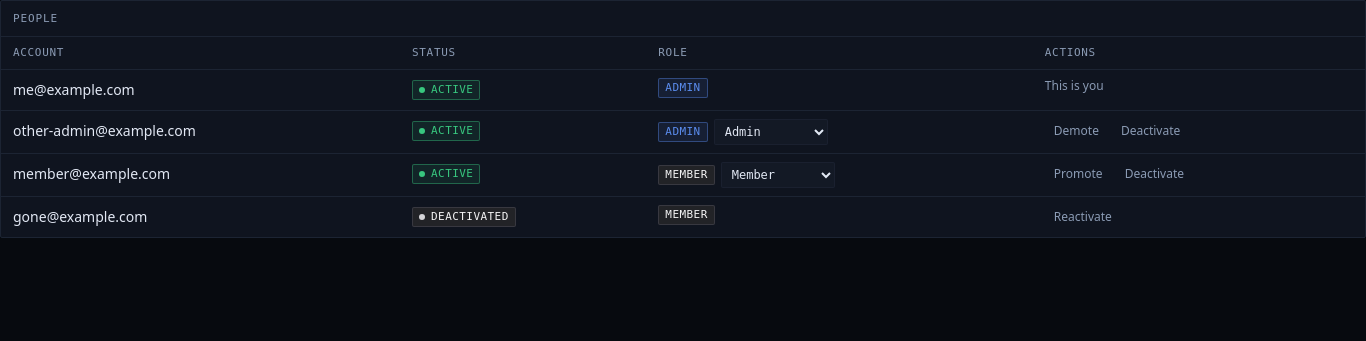
UserRoster › cancelling leaves the account alone
The image size is (1366, 341).
Check: the text "member@example.com" is shown, box [13, 164, 170, 182]
Click the button with aria-label "Deactivate member@example.com". click: coordinates (1154, 174)
box: [1116, 162, 1193, 186]
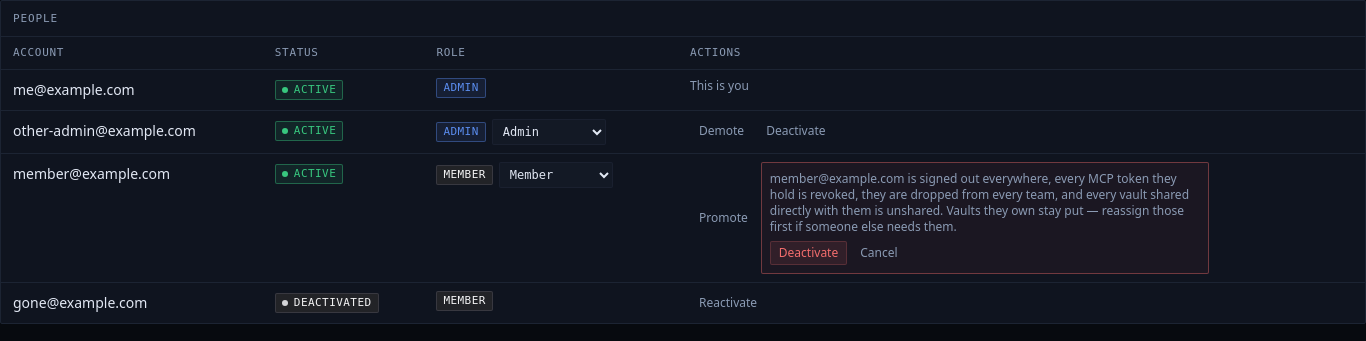
Click the button "Cancel". click: coordinates (879, 252)
box: [851, 240, 907, 264]
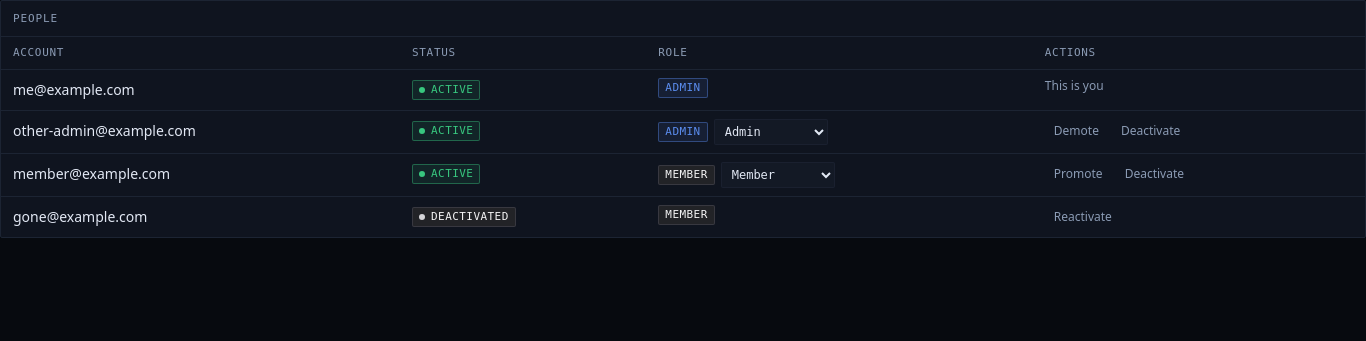
Check: the text "dropped from every team" is gone
